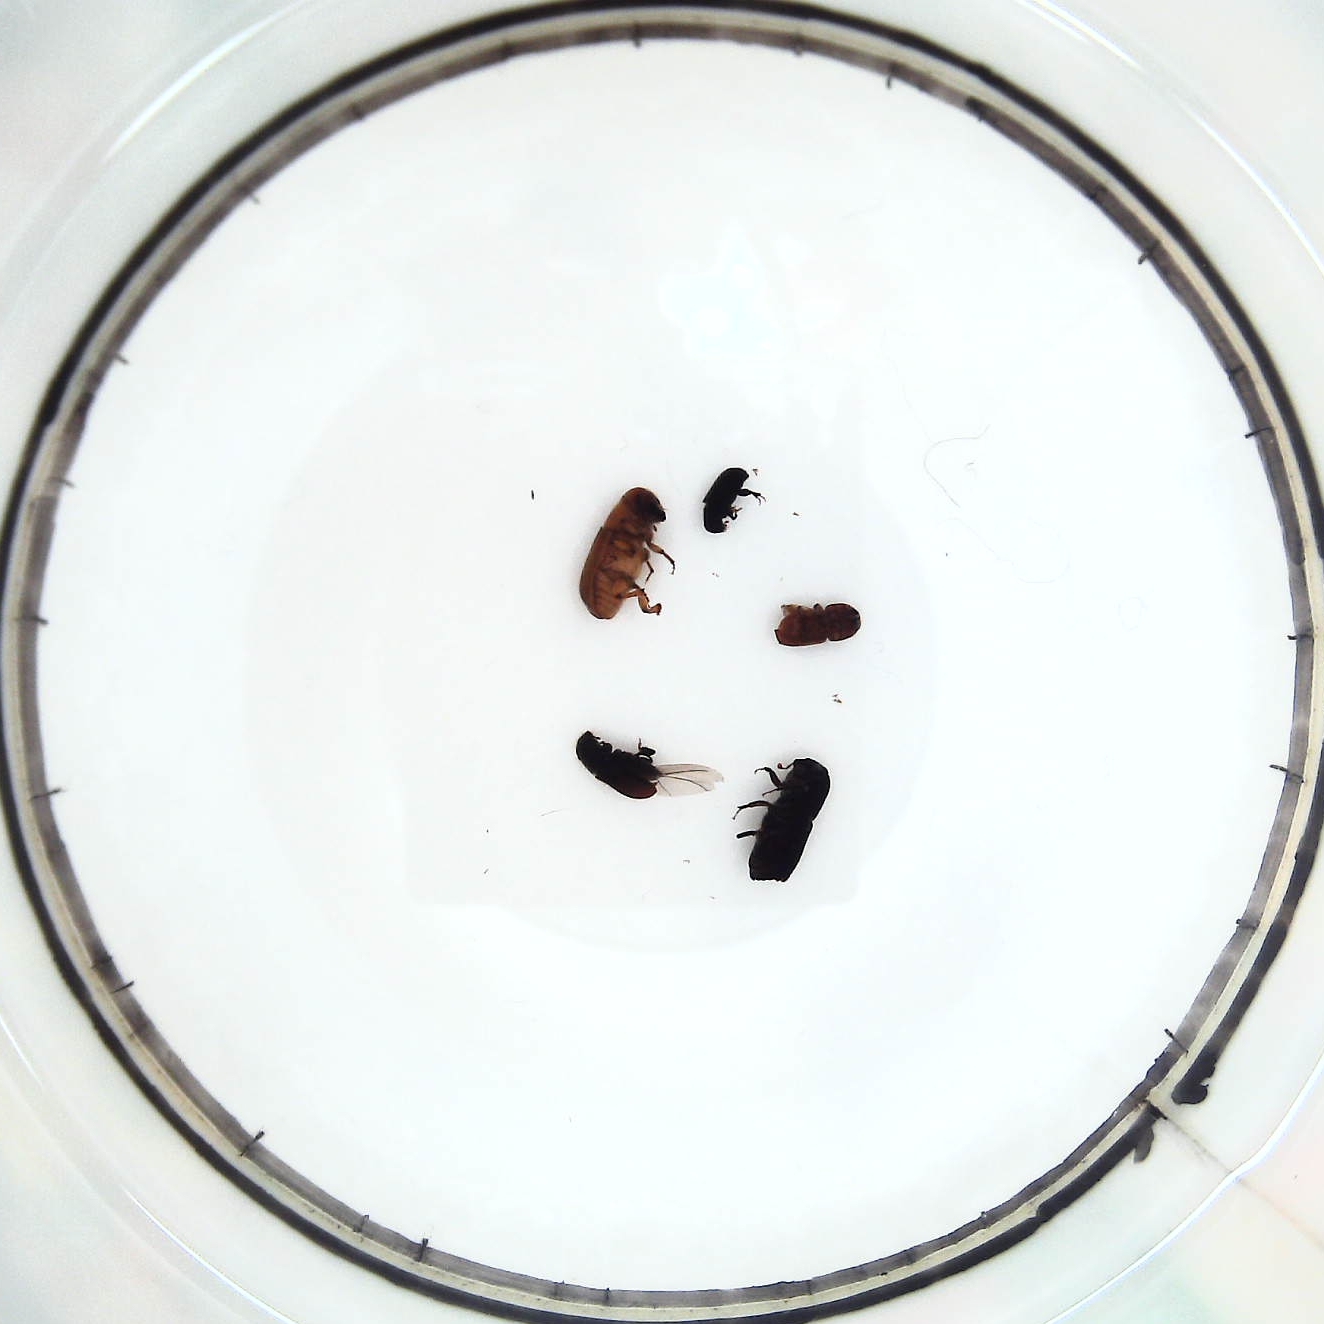Boerner: (734, 755, 835, 892)
Leconte: (577, 480, 679, 626)
armandi: (567, 726, 720, 801)
coleoptera: (701, 463, 764, 538)
linnaeus: (772, 599, 872, 655)
